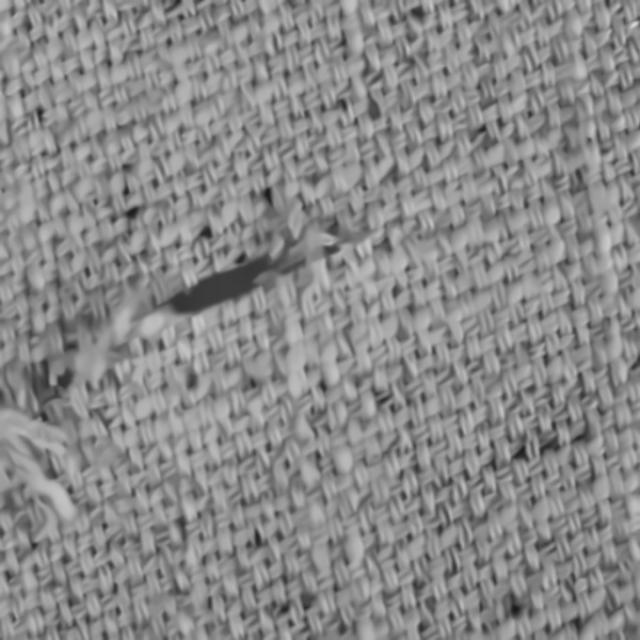seam: (118, 216, 312, 350)
